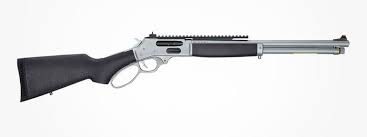gun: (16, 32, 350, 102)
